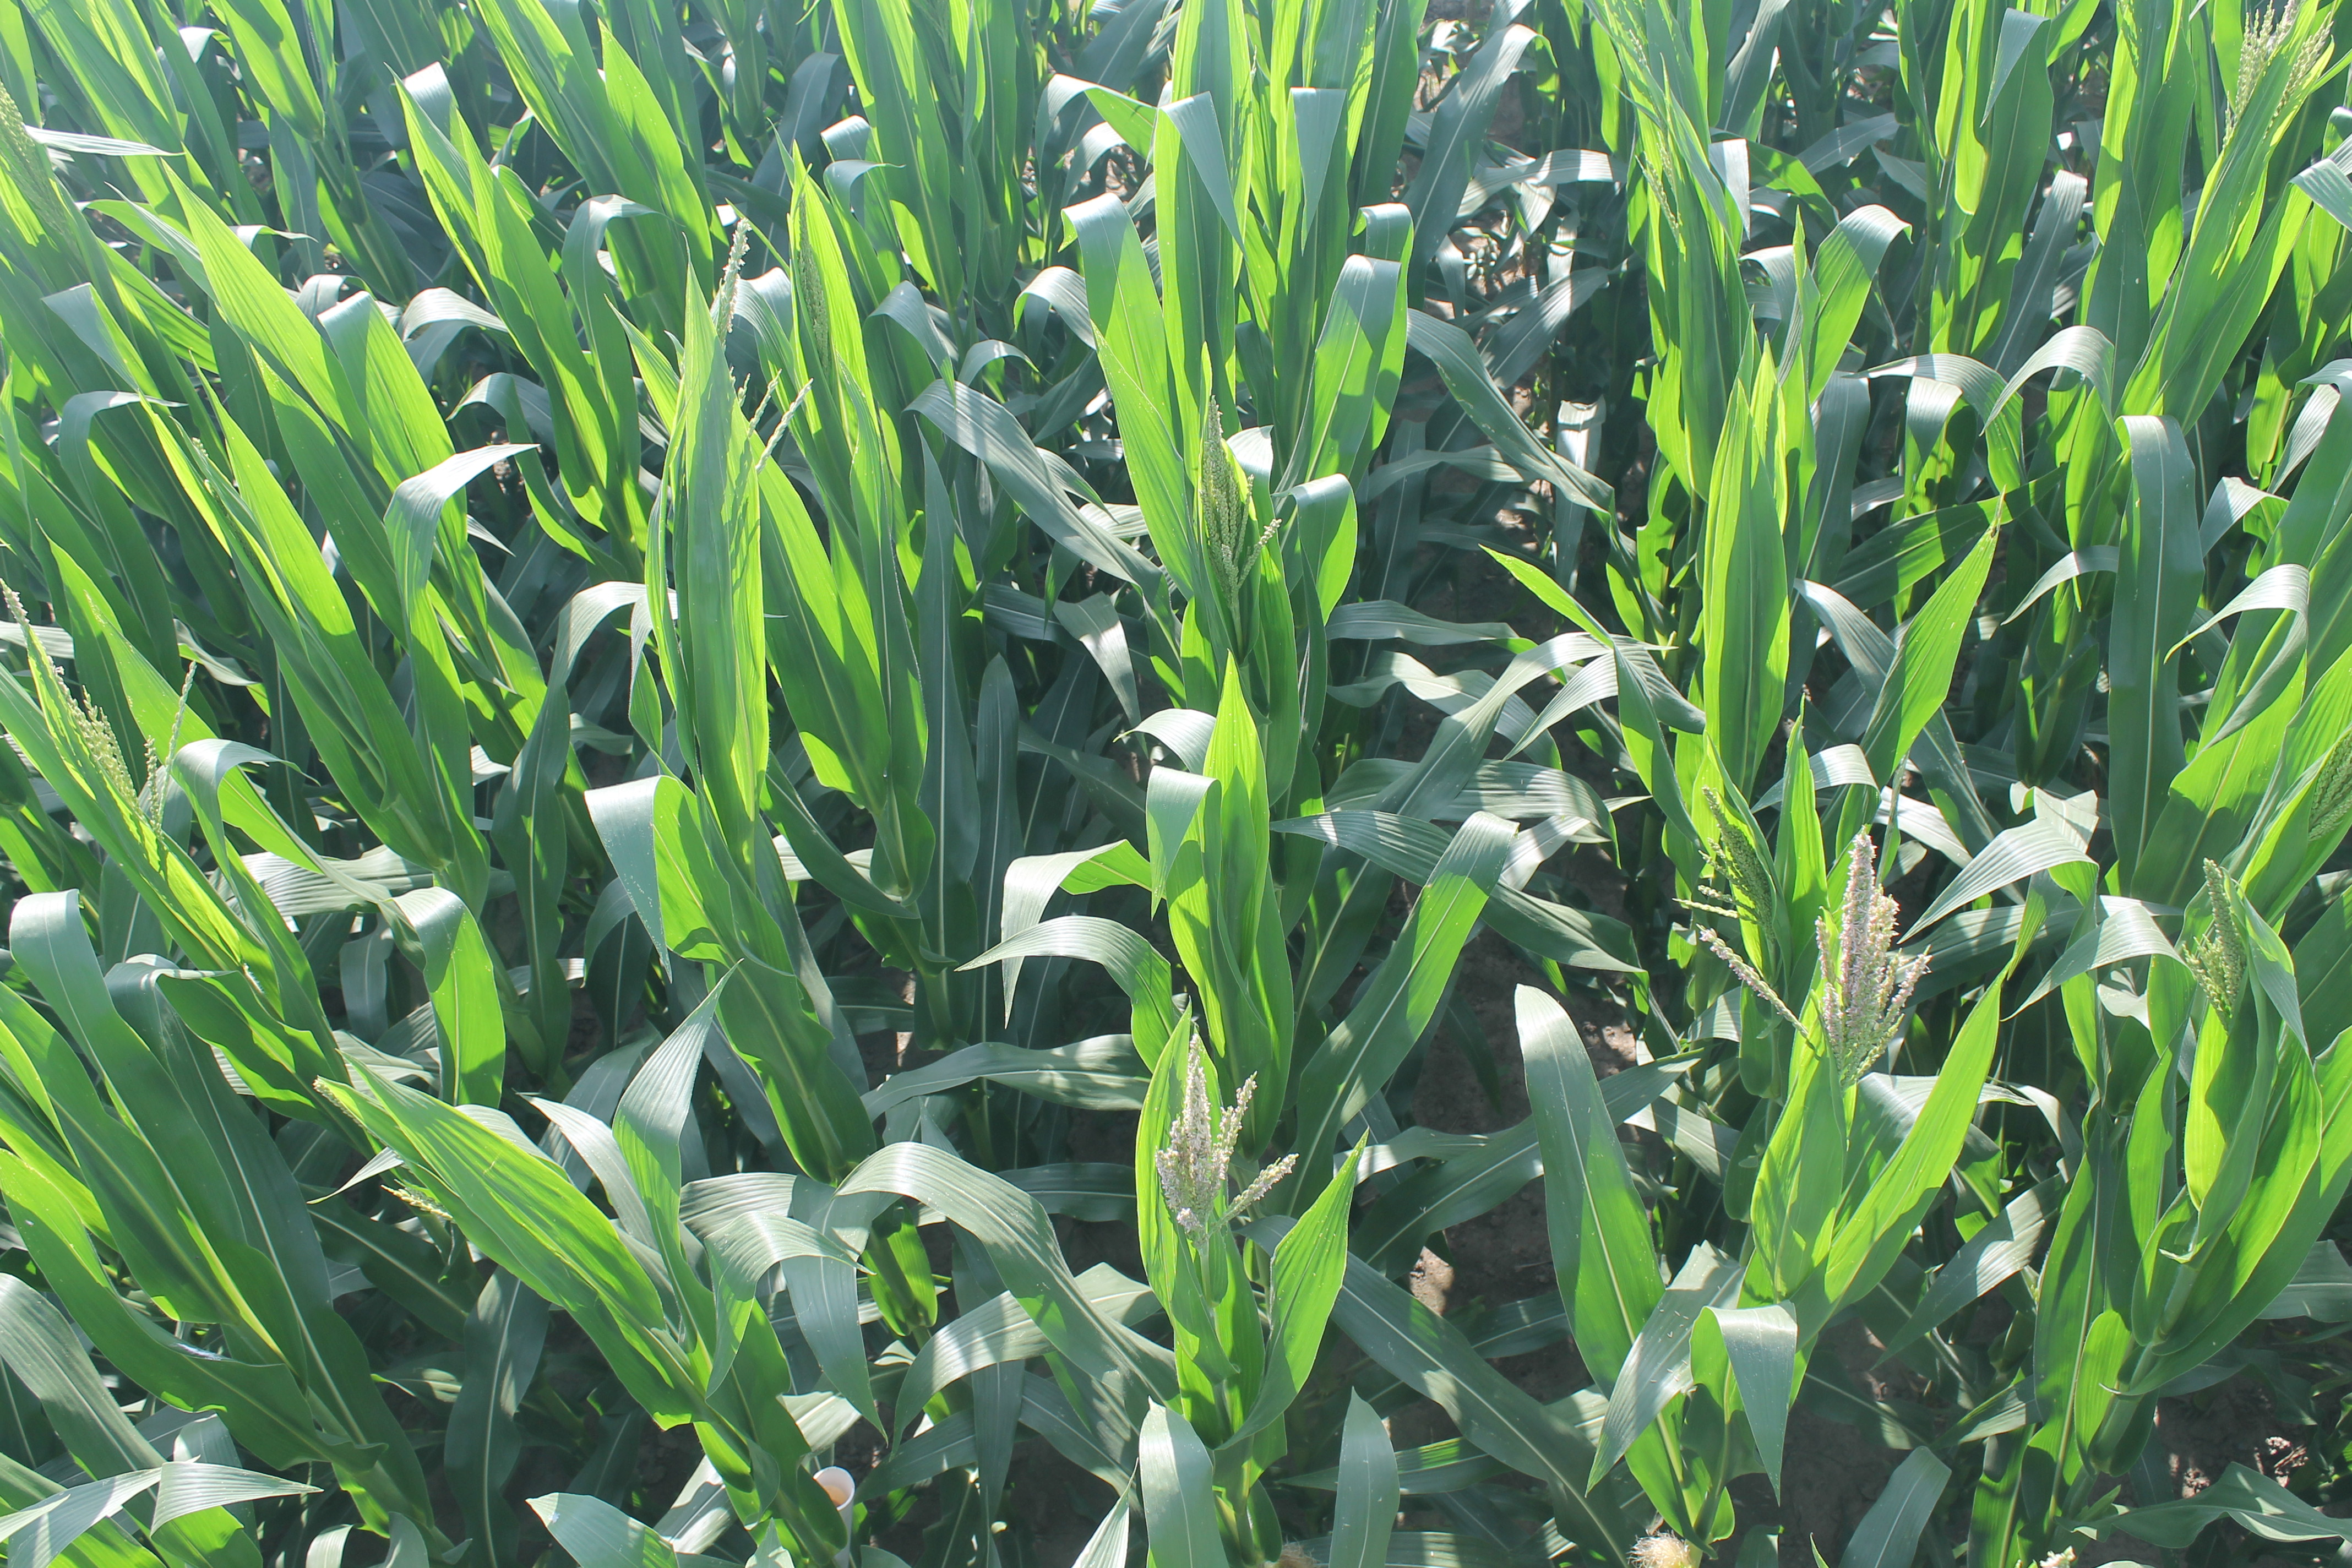Maize: (2, 576, 142, 828), (1157, 1027, 1307, 1253), (1823, 838, 1918, 1071), (1193, 399, 1281, 590), (2226, 0, 2334, 122), (1690, 782, 1769, 929), (2189, 854, 2249, 1017), (2303, 733, 2352, 847)
